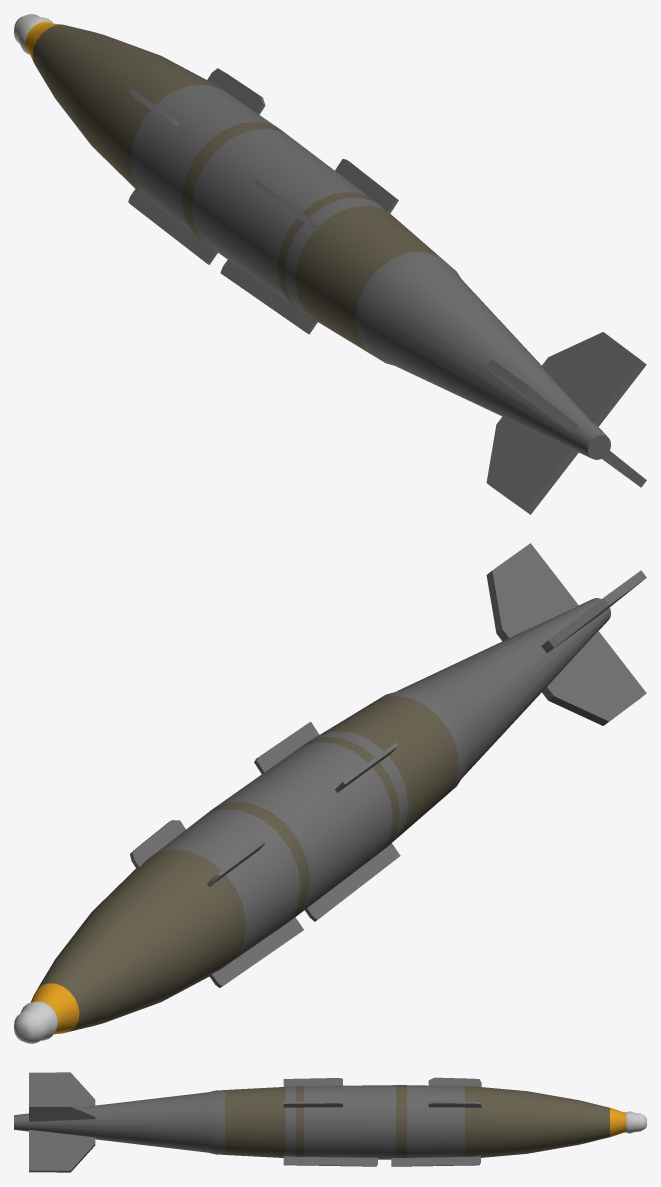
File: jdam.glb
The picture shows the model from 3 angles, top to bottom: view 1: azimuth 30°, elevation 25°; view 2: azimuth 150°, elevation 25°; view 3: azimuth 270°, elevation 25°; orthographic projection. The views are drawn at different scales.
Parts seen in each view (by area): view 1: jdam; view 2: jdam; view 3: jdam.
Part boxes in pixels (x1,y1,x2,y2): jdam: (14,14,646,514); jdam: (14,543,646,1043); jdam: (14,1072,646,1172).
Size of the model in its own units: 0.4807 by 0.4807 by 3.91.
